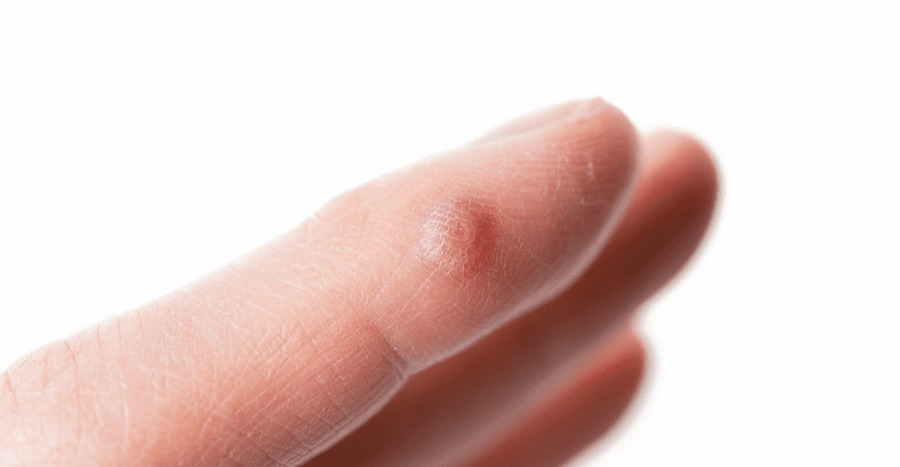Warts: (415, 185, 509, 288)
